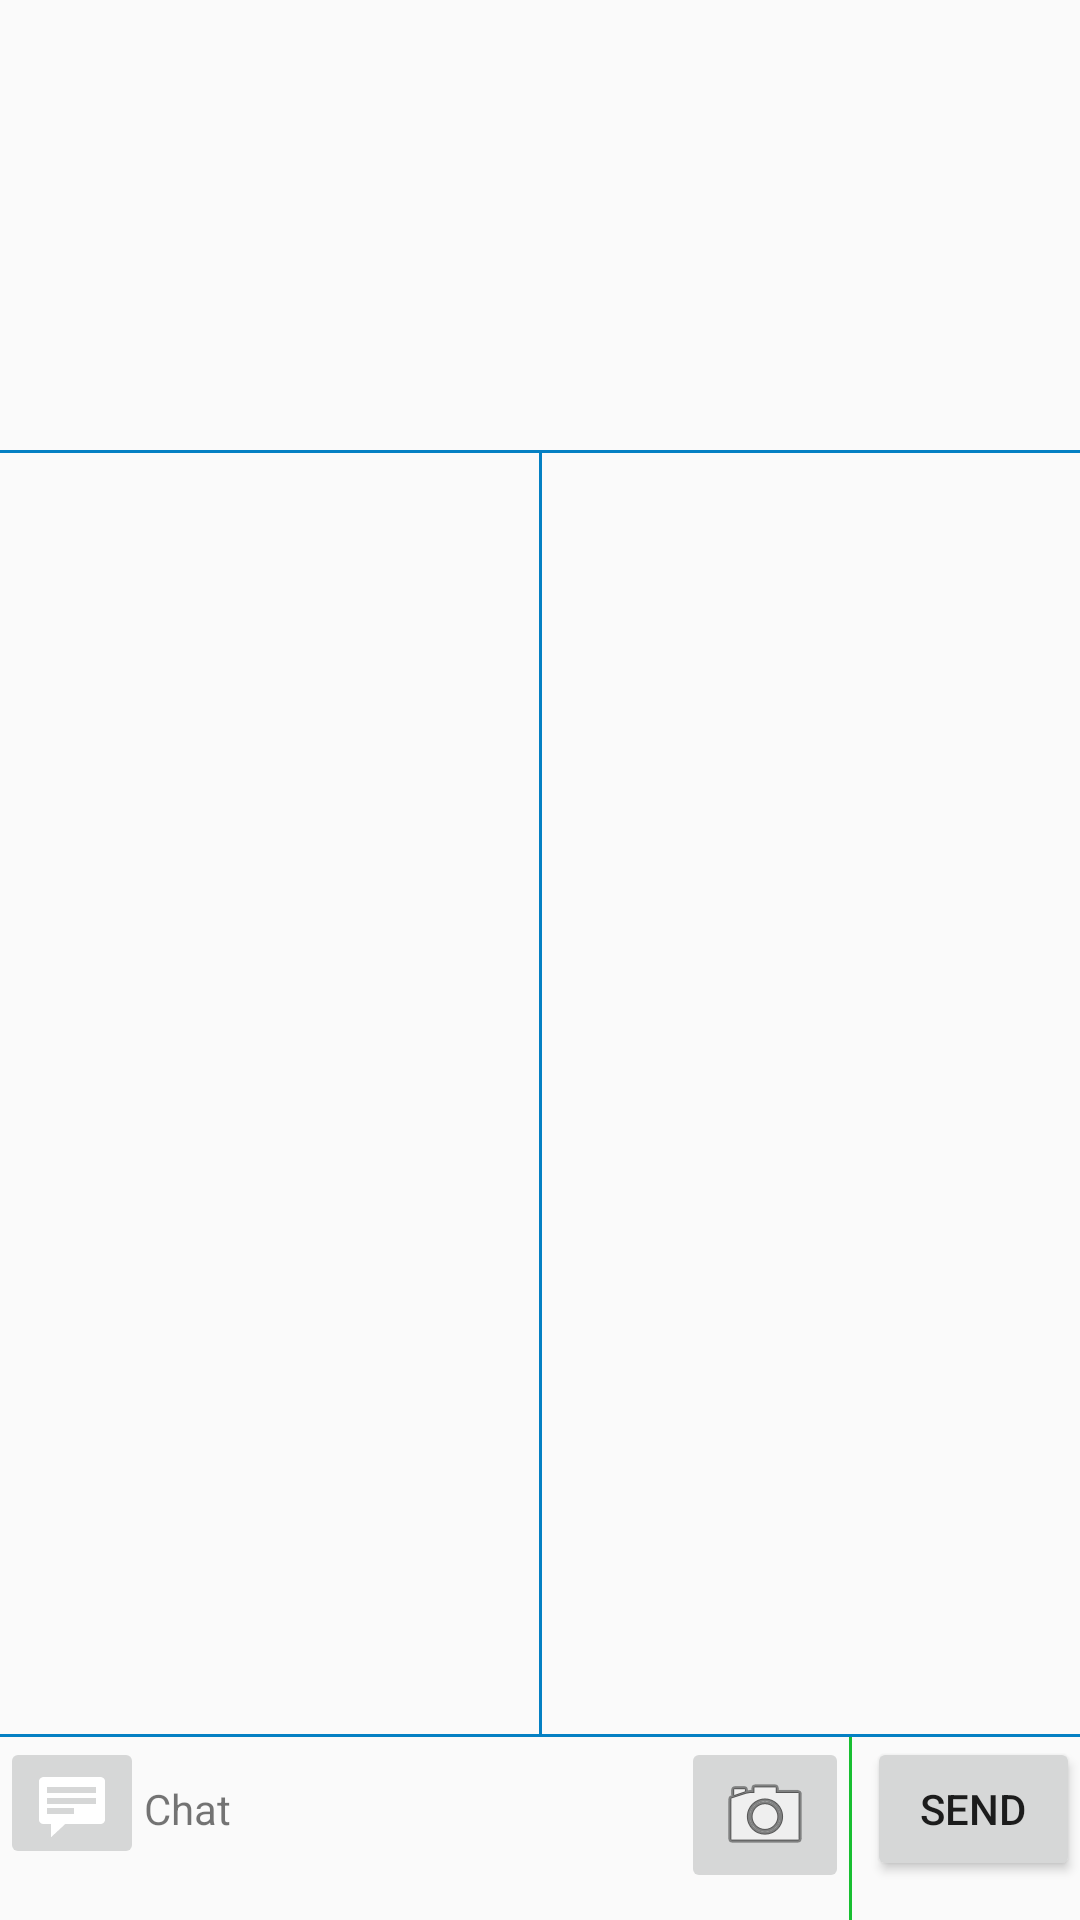

Point at icon controls on the screen. Image size 1080×1920, points as (x=x, y=y).
camera: (x=765, y=1815)
